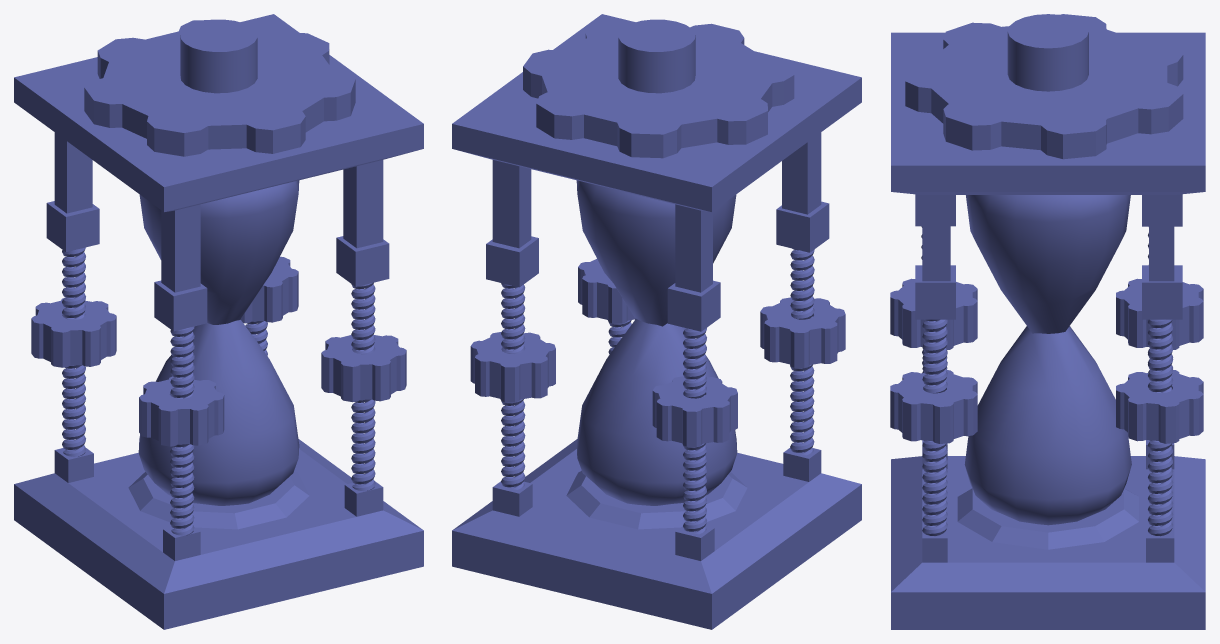
The model's file is hourglass_trap.fbx.
3 views of the same model, side by side, from view 1: azimuth 30°, elevation 25°; view 2: azimuth 150°, elevation 25°; view 3: azimuth 270°, elevation 25° (orthographic). The views are drawn at different scales.
Parts seen in each view (by area): view 1: body, coils; view 2: body, coils; view 3: body, coils.
Part boxes in pixels (box(x1,y1,x2,y2)): body: box(14, 14, 423, 629); coils: box(62, 247, 375, 535); body: box(452, 14, 861, 629); coils: box(501, 248, 814, 534); body: box(890, 14, 1205, 629); coils: box(921, 226, 1173, 536).
Bounding box in the file's own units: 7.73 × 14.43 × 7.75.
